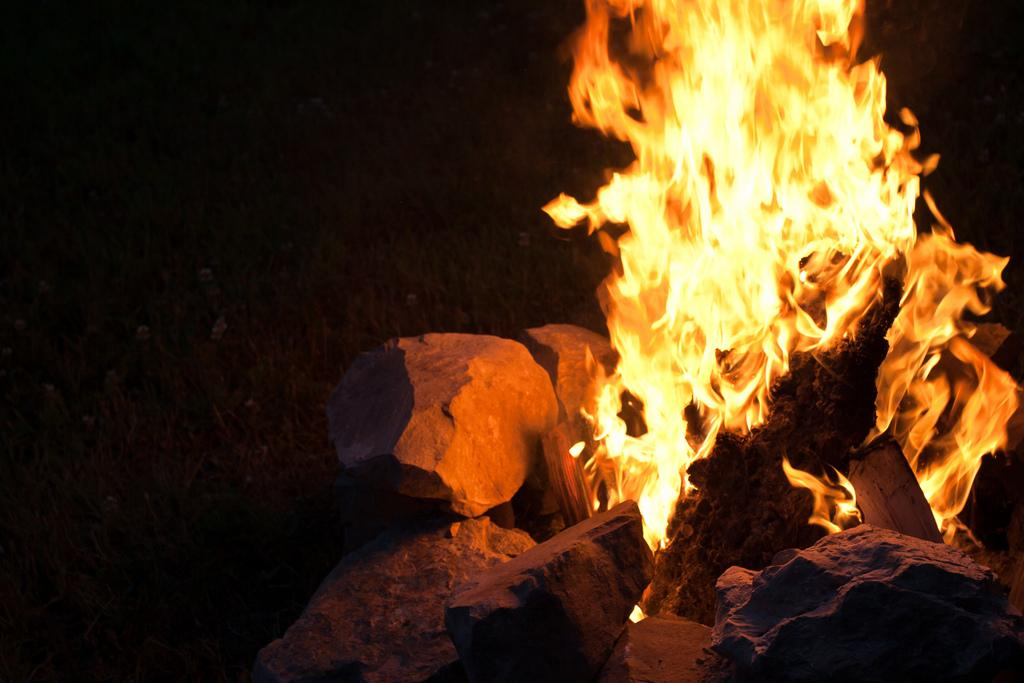fire: (605, 0, 902, 348), (587, 360, 735, 498)
